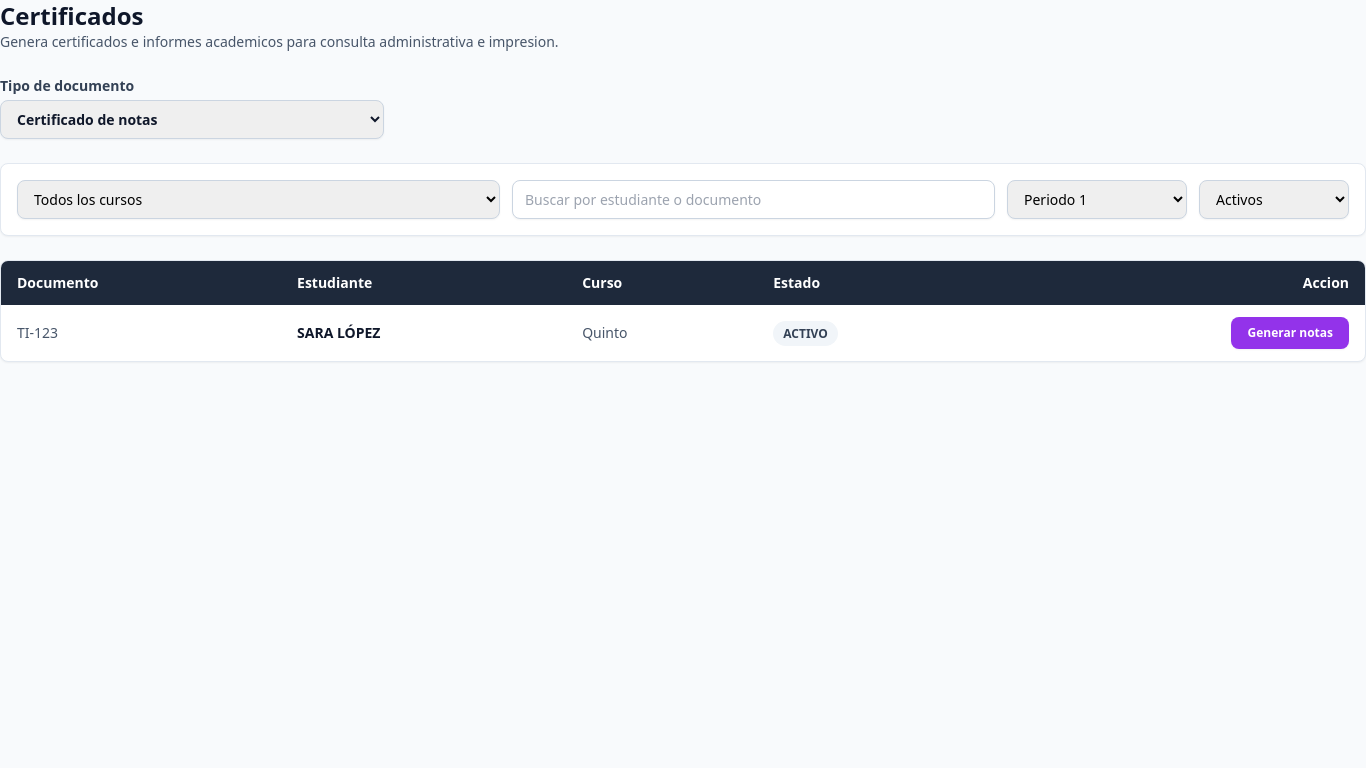
Test: CertificadosAdmin › no expide el paz y salvo a quien debe: muestra lo que debe; pagado, lo expide
The image size is (1366, 768).
Check: the text "TI-123" is shown, box x1=1 y1=305 x2=281 y2=361
Select "Certificado de paz y salvo" in the dropdown labelled "Tipo de documento". click: (192, 120)
box: x1=0 y1=100 x2=384 y2=139
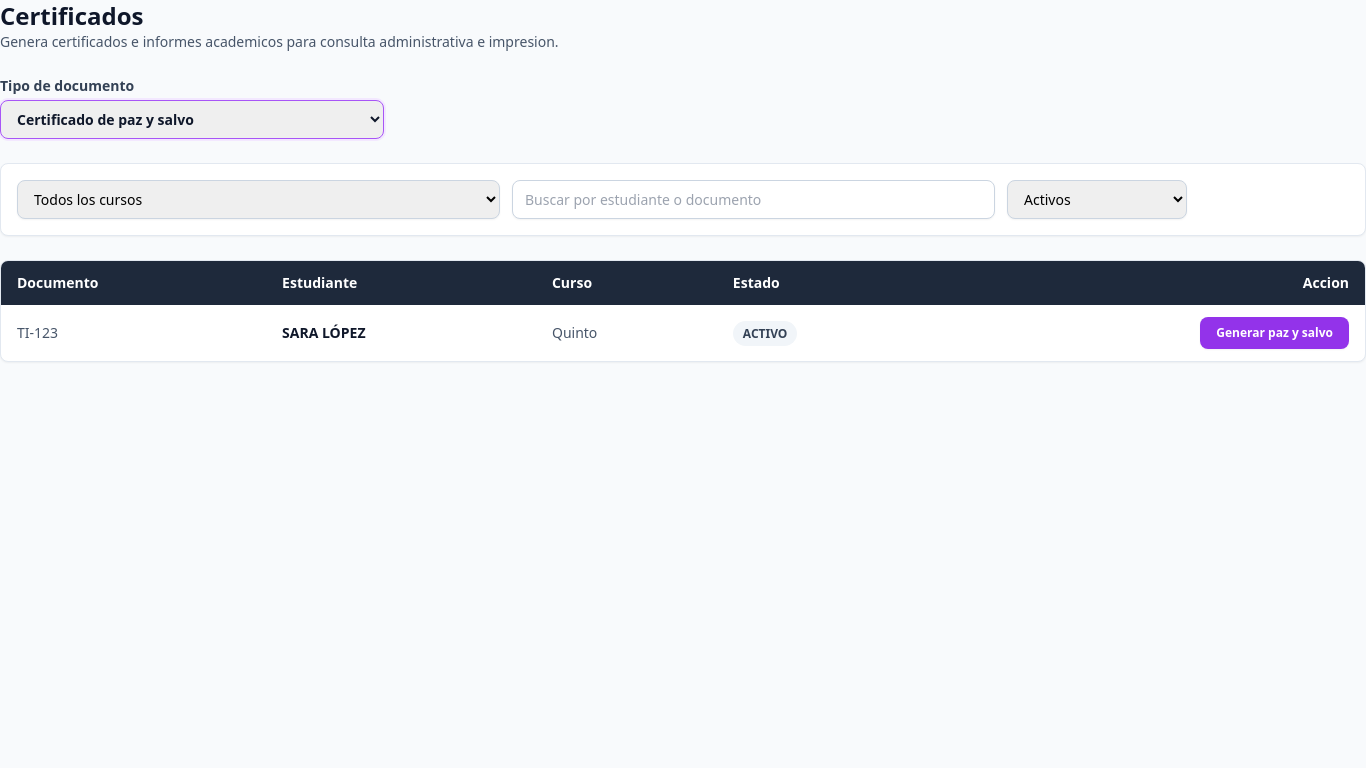
Click the button "Generar paz y salvo". click: (1275, 333)
box: x1=1200 y1=317 x2=1349 y2=349
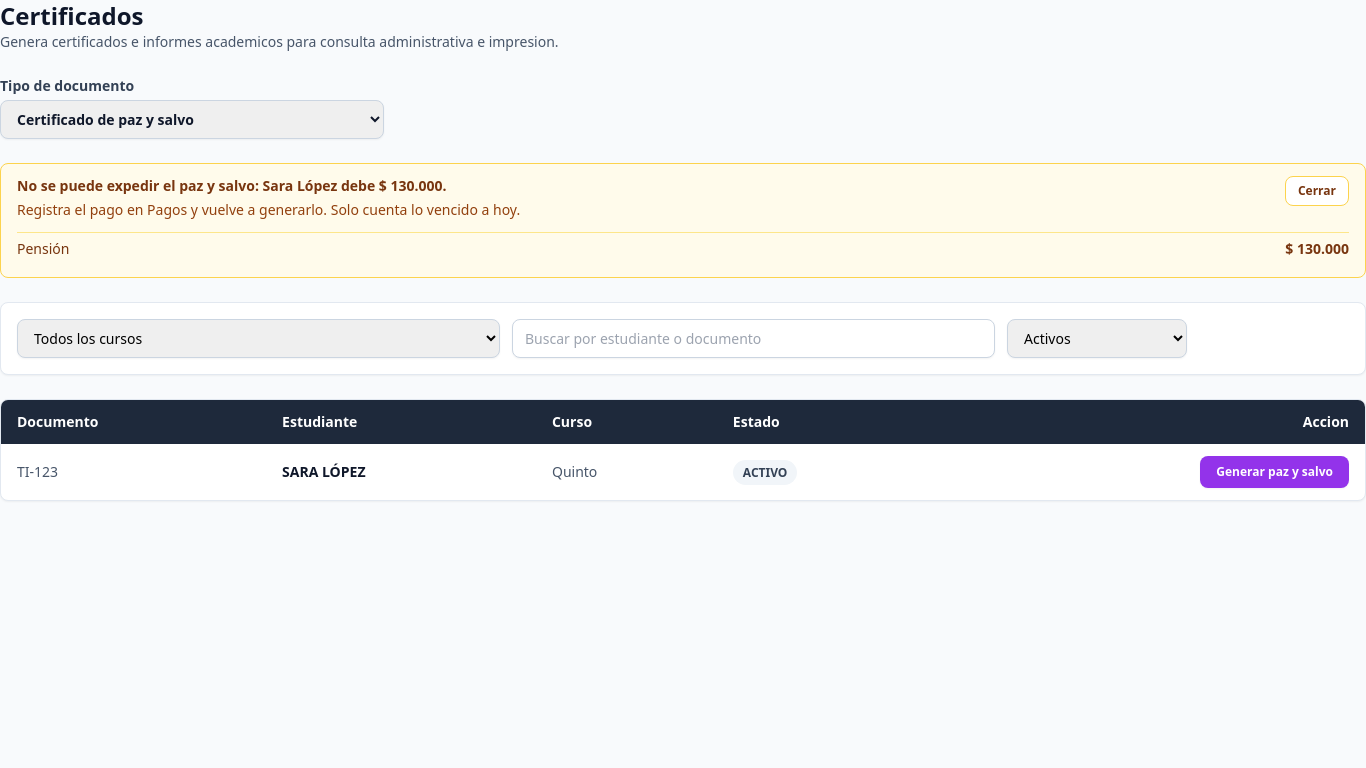
Check: the text "CERTIFICA:" is not shown
Check: the message shows "No se puede expedir el paz y salvo: Sara López debe $ 130.000.", box x1=0 y1=163 x2=1365 y2=278
// Ya pagó: la segunda vez el backend no trae deuda.
Click the button "Generar paz y salvo". click: (1275, 472)
box: x1=1200 y1=456 x2=1349 y2=488
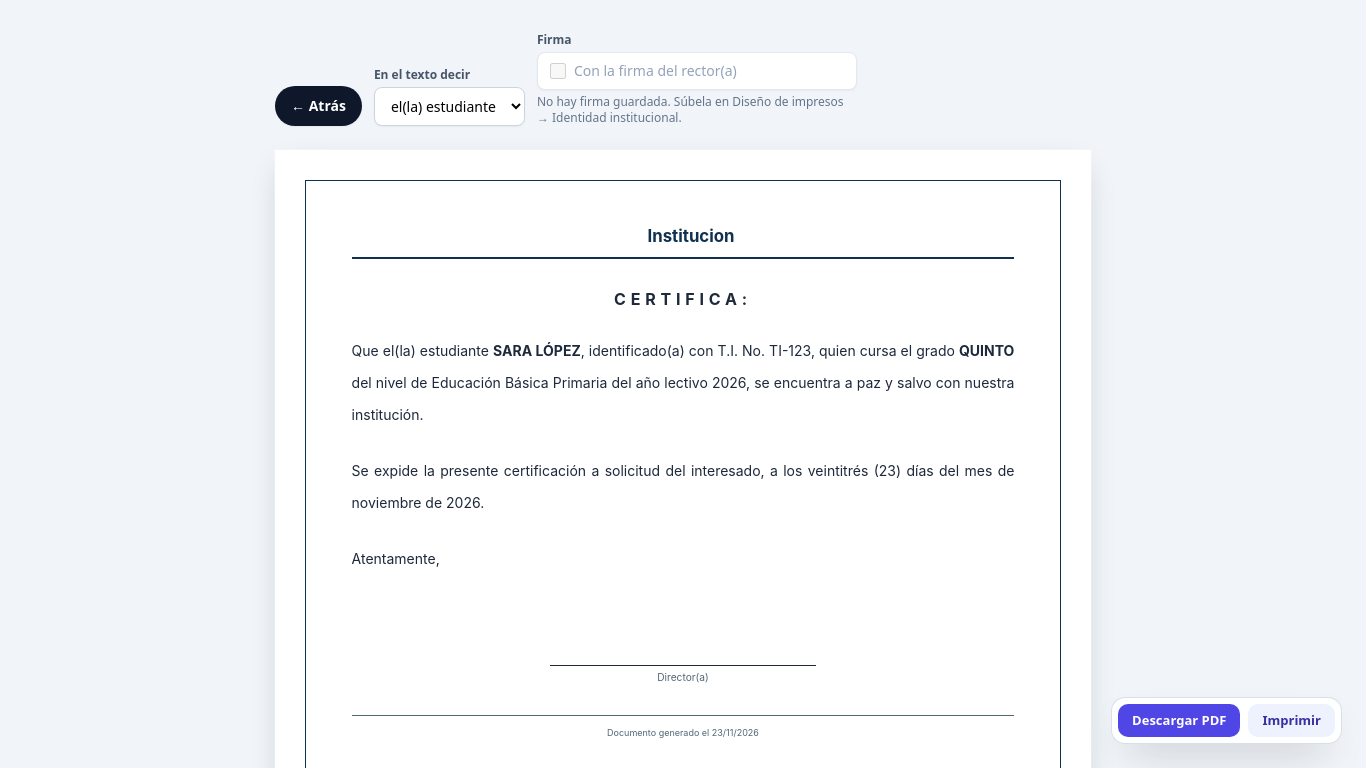
Check: the text "CERTIFICA:" is shown, box x1=614 y1=289 x2=752 y2=309
